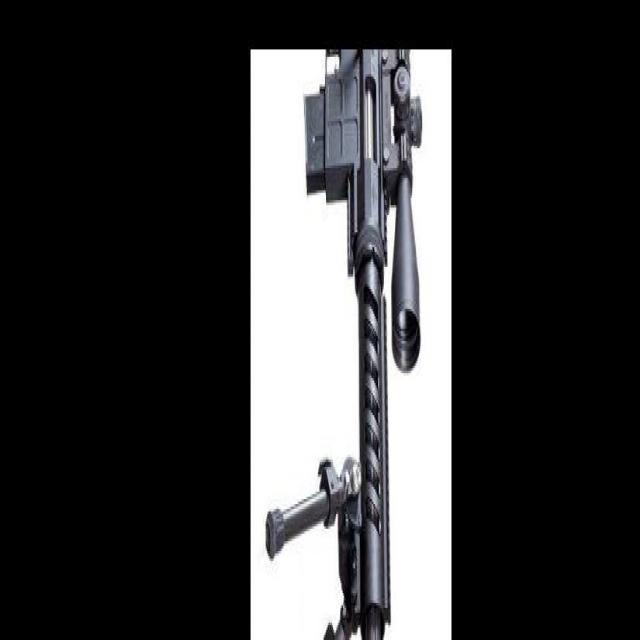weapon: (264, 49, 424, 640)
